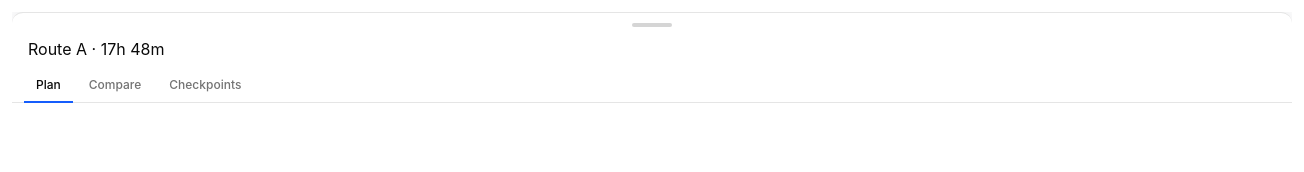
MobileSheet › shows only the active panel
The image size is (1304, 172).
Click the tab "Compare" at (115, 86), box [77,69,153,103]
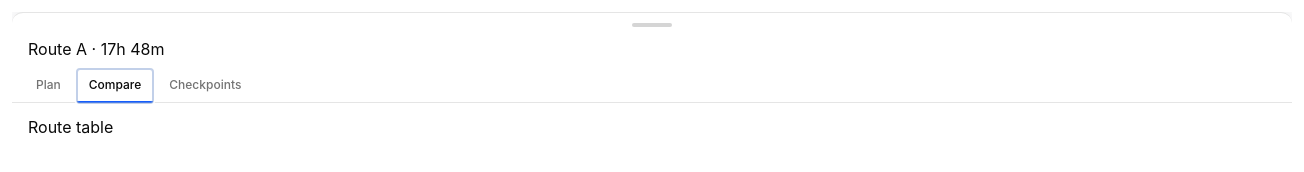
Result: the text "Route table" is shown at [28,117,113,137]
Result: the field labelled "Origin" is gone
